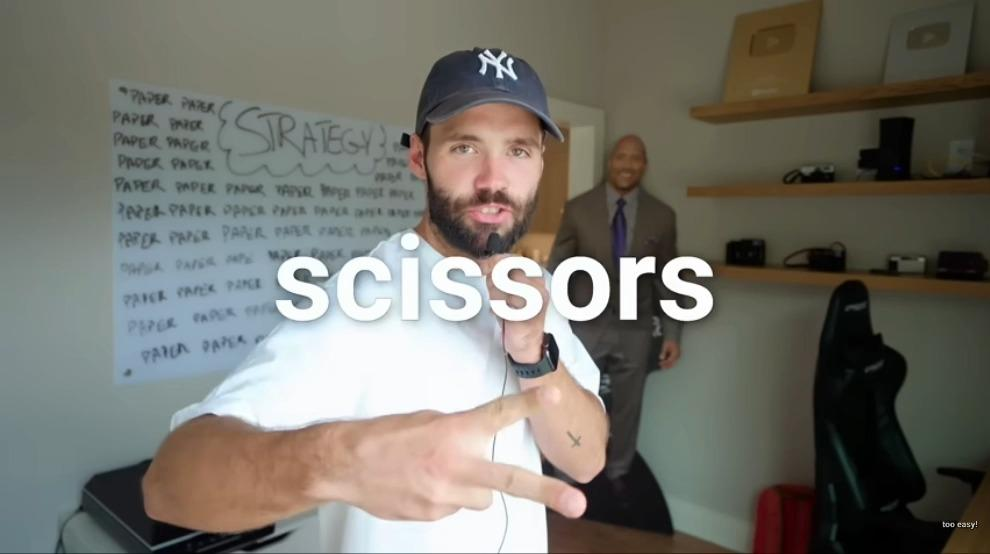Scissors: (316, 382, 588, 526)
